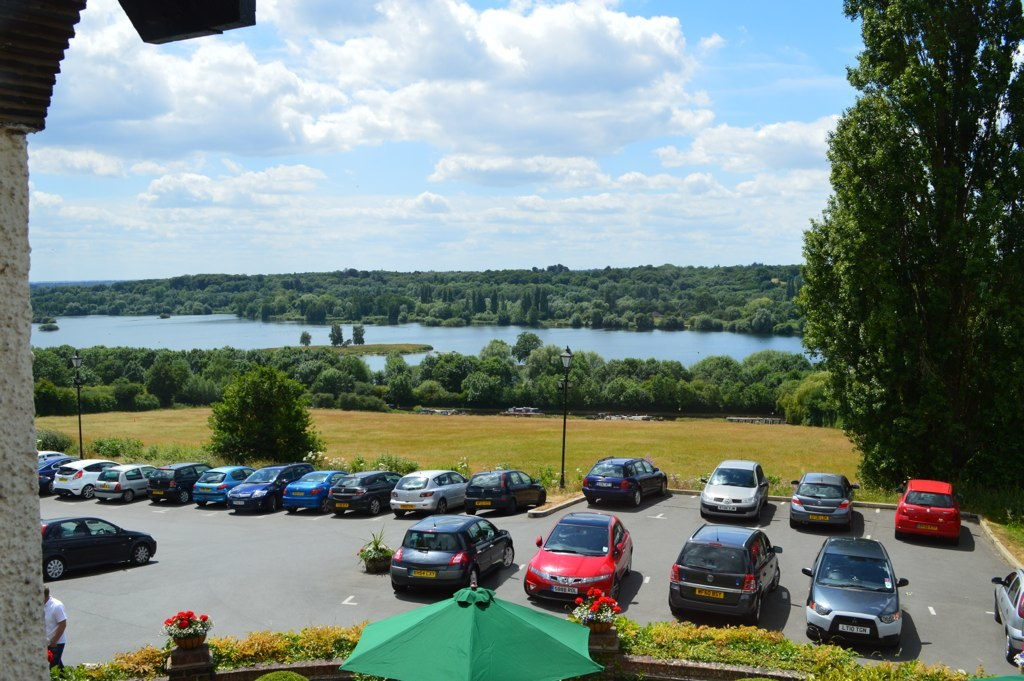mobil: (666, 522, 782, 628), (804, 534, 907, 650), (393, 514, 511, 608), (529, 512, 629, 609), (35, 511, 155, 572), (701, 446, 774, 529), (580, 449, 677, 509), (891, 478, 962, 549), (386, 458, 469, 509), (794, 469, 854, 532), (471, 466, 551, 511)
